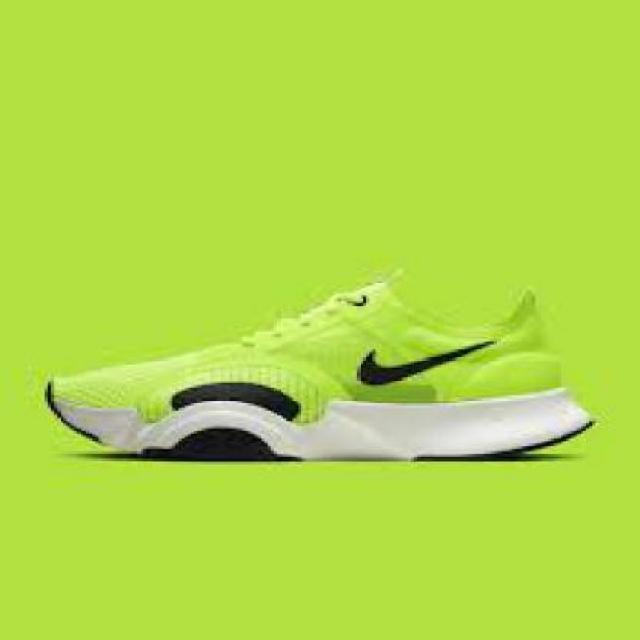Nike: (350, 335, 493, 383)
